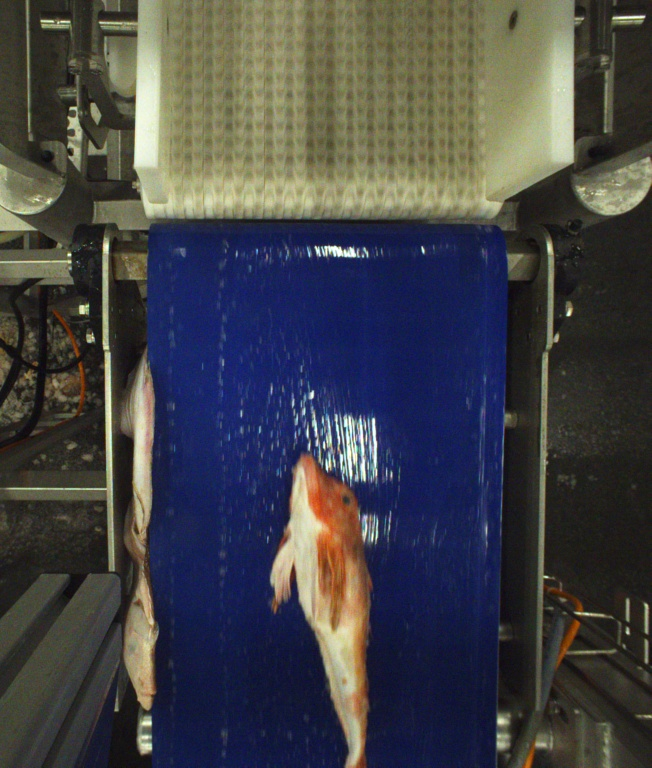GUU: (274, 451, 371, 767)
